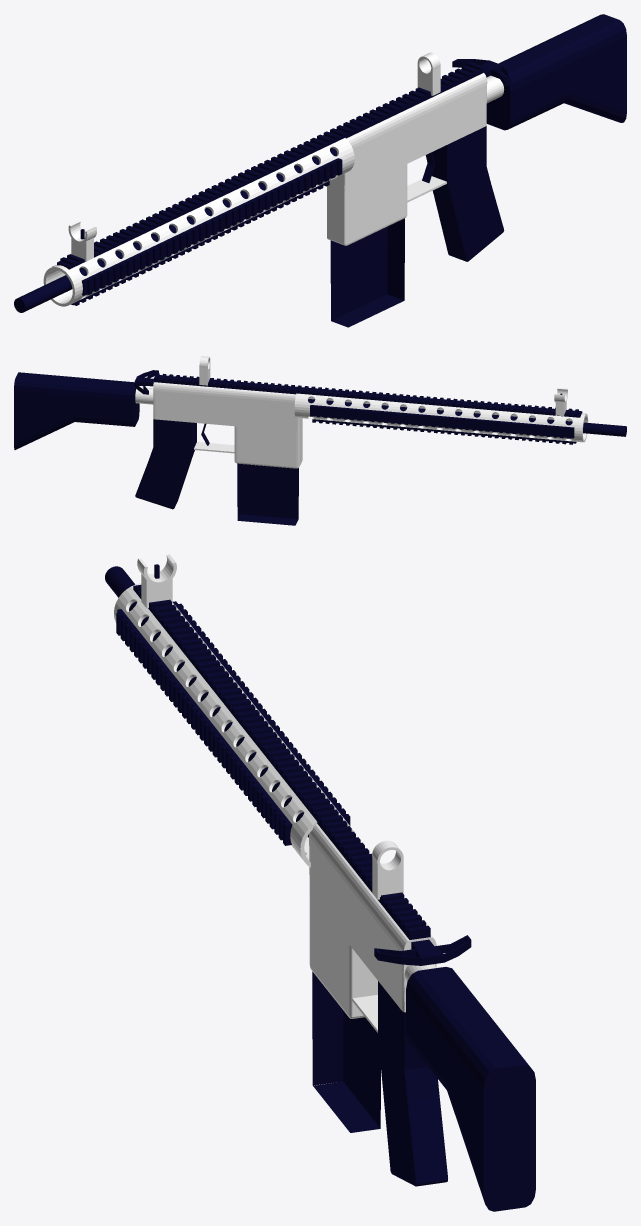
The model's file is stoner0013.obj.
The picture shows the model from 3 angles, top to bottom: view 1: azimuth 30°, elevation 25°; view 2: azimuth 150°, elevation 25°; view 3: azimuth 270°, elevation 25°; orthographic projection. The views are drawn at different scales.
Visible parts, largest first — view 1: shoulderStock, upperReceiver, rearPistolGrip, picatinyRail, mag, handGuard, picatinyRailLeft, magWell, barrel, picatinyRailBottom, handle, lowerTriggerGuard (+1 smaller); view 2: shoulderStock, upperReceiver, handGuard, rearPistolGrip, mag, picatinyRail, picatinyRailRight, magWell, barrel, picatinyRailBottom, lowerTriggerGuard, handle (+1 smaller); view 3: shoulderStock, picatinyRail, rearPistolGrip, mag, upperReceiver, handGuard, picatinyRailLeft, magWell, picatinyRailRight, handle, barrel.
Boxes of the visible parts, box(x1,y1,x2,y2) form: shoulderStock: box(486, 14, 626, 130); upperReceiver: box(327, 73, 487, 192); rearPistolGrip: box(432, 126, 504, 261); picatinyRail: box(57, 62, 483, 269); mag: box(330, 218, 404, 327); handGuard: box(43, 138, 354, 306); picatinyRailLeft: box(82, 158, 342, 295); magWell: box(327, 164, 407, 245); barrel: box(14, 148, 337, 312); picatinyRailBottom: box(71, 181, 329, 305); handle: box(452, 59, 510, 86); lowerTriggerGuard: box(407, 176, 446, 202); shoulderStock: box(14, 372, 139, 449); upperReceiver: box(153, 382, 302, 431); handGuard: box(294, 393, 588, 442); rearPistolGrip: box(135, 419, 196, 509); mag: box(237, 463, 298, 525); picatinyRail: box(154, 373, 582, 417); picatinyRailRight: box(310, 405, 574, 438); magWell: box(234, 425, 302, 468); barrel: box(308, 399, 626, 436); picatinyRailBottom: box(312, 419, 576, 444); lowerTriggerGuard: box(194, 442, 234, 453); handle: box(134, 370, 158, 394); shoulderStock: box(406, 967, 535, 1211); picatinyRail: box(133, 585, 430, 939); rearPistolGrip: box(378, 981, 447, 1186); mag: box(312, 971, 380, 1132); upperReceiver: box(309, 824, 436, 1012); handGuard: box(114, 583, 353, 867); picatinyRailLeft: box(116, 609, 292, 845); magWell: box(309, 894, 377, 1018); picatinyRailRight: box(173, 601, 350, 825); handle: box(374, 935, 471, 965); barrel: box(105, 566, 308, 837).
Size of the model in its own units: 8.63 by 2.52 by 3.12.
